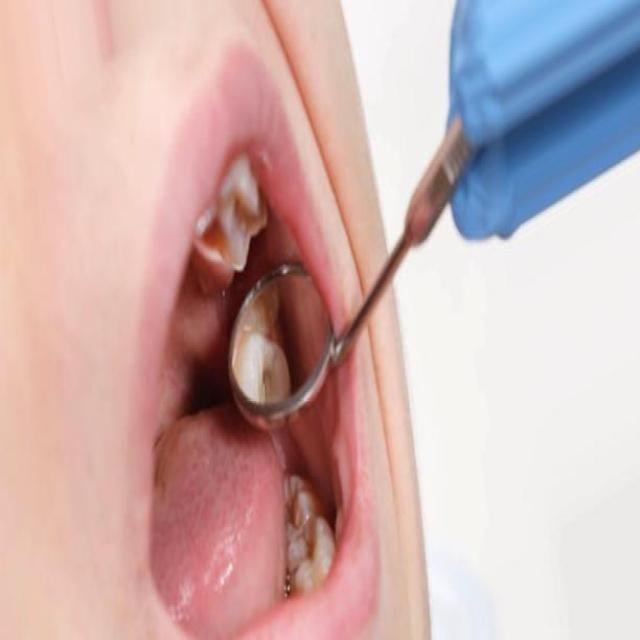caries: (194, 174, 266, 278)
